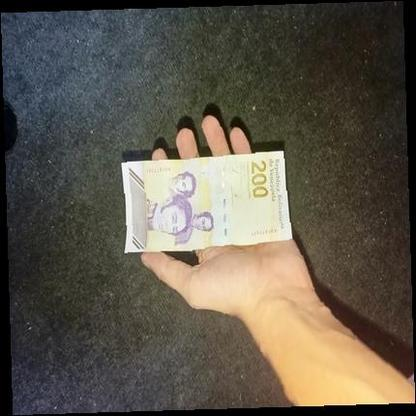two_hundred-front-vef: (121, 148, 292, 254)
